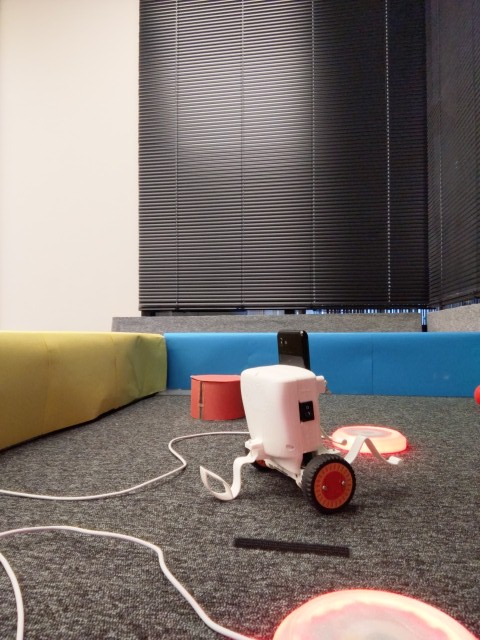br: (194, 324, 403, 516)
r: (268, 569, 480, 640), (331, 418, 405, 457)
